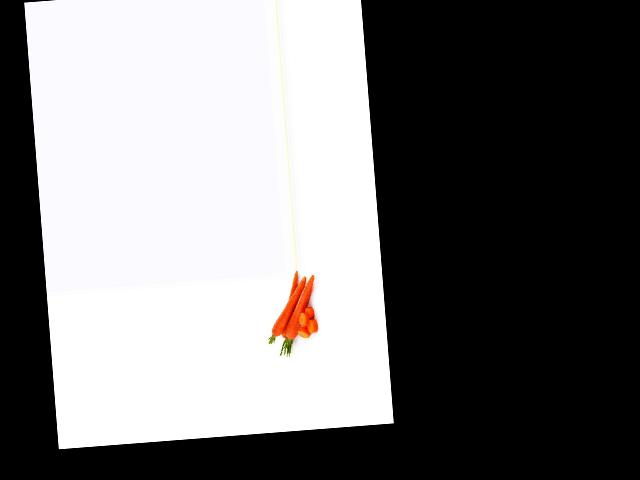carrot: (279, 274, 319, 345)
